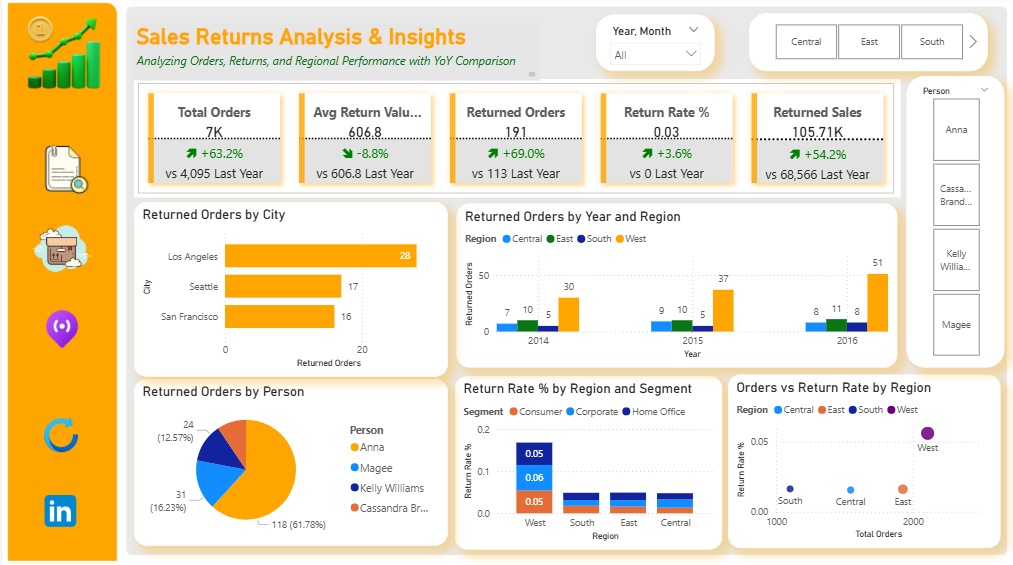

Layout of this report page (visuals, bound fields, positions):
{"tool":"powerbi","page":{"name":"People & Regional Analysis","canvas":[1280,720],"ordinal":2},"visuals":[{"type":"columnChart","fields":{"Category":["Orders_clean.Region"],"Y":["Key_Measures.Return Rate %"],"Series":["Orders_clean.Segment"]},"box":[570,480,336.7,218.3],"z":0},{"type":"clusteredColumnChart","fields":{"Category":["DimDate.Date.Variation.Date Hierarchy.Year"],"Y":["Key_Measures.Returned Orders"],"Series":["Orders_clean.Region"]},"box":[571.7,263.3,555,206.7],"z":1000},{"type":"pieChart","fields":{"Y":["Key_Measures.Returned Orders"],"Category":["People.Person"]},"box":[166.7,483.3,395,210],"z":2000},{"type":"scatterChart","title":"Orders vs Return Rate by Region","fields":{"Y":["Key_Measures.Return Rate %"],"X":["Key_Measures.Total Orders"],"Series":["Orders_clean.Region"],"Size":["Key_Measures.Returned Sales"]},"box":[915,478.3,343.3,218.3],"z":3000},{"type":"barChart","fields":{"Category":["Orders_clean.City"],"Y":["Key_Measures.Returned Orders"]},"box":[166.7,261.7,395,220],"z":4000},{"type":"image","box":[3.7,12.9,149.3,118],"z":5000},{"type":"image","box":[35,175.1,81.1,84.8],"z":6000},{"type":"image","box":[28.3,271.7,91.7,95],"z":7000},{"type":"image","box":[28.3,386.7,95,63.3],"z":8000},{"type":"image","box":[43.3,520,61.7,70],"z":9000},{"type":"image","box":[41.7,618.3,63.3,63.3],"z":10000},{"type":"actionButton","box":[30,175,91.7,85],"z":11000},{"type":"actionButton","box":[25,280,95,80],"z":12000},{"type":"actionButton","box":[28.3,378.3,88.3,91.7],"z":13000},{"type":"actionButton","box":[43.3,520,81.7,75],"z":14000},{"type":"actionButton","box":[41.7,618.3,63.3,63.3],"z":15000},{"type":"cardVisual","fields":{"Data":["Key_Measures.Total Orders","Key_Measures.Avg Return Value YoY","Key_Measures.Returned Orders","Key_Measures.Return Rate %","Key_Measures.Returned Sales"]},"box":[165.9,105.7,966.2,149.6],"z":16000},{"type":"slicer","fields":{"Values":["DimDate.Date.Variation.Date Hierarchy.Year","DimDate.Date.Variation.Date Hierarchy.Month"]},"box":[748.2,24.4,149.6,71.6],"z":17000},{"type":"slicer","fields":{"Values":["People.Region"]},"box":[941.8,22.8,300.9,73.2],"z":18000},{"type":"textbox","title":"Sales Returns Analysis & Insights","box":[164.3,35.8,512.4,71.6],"z":19000},{"type":"slicer","fields":{"Values":["People.Person"]},"box":[1140.2,102.5,123.6,367.6],"z":20000}]}

Visuals, with their boxes on the page's 1280x720 design canvas (x1, y1, x2, y2). These are canvas units, not pixel positions in the 1013x565 screenshot, which may show the page scaled, cropped or inside an application window:
columnChart - Orders_clean.Region x Key_Measures.Return Rate %: left=570, top=480, right=907, bottom=698
clusteredColumnChart - DimDate.Date.Variation.Date Hierarchy.Year x Key_Measures.Returned Orders: left=572, top=263, right=1127, bottom=470
pieChart - Key_Measures.Returned Orders x People.Person: left=167, top=483, right=562, bottom=693
"Orders vs Return Rate by Region" scatterChart: left=915, top=478, right=1258, bottom=697
barChart - Orders_clean.City x Key_Measures.Returned Orders: left=167, top=262, right=562, bottom=482
image: left=4, top=13, right=153, bottom=131
image: left=35, top=175, right=116, bottom=260
image: left=28, top=272, right=120, bottom=367
image: left=28, top=387, right=123, bottom=450
image: left=43, top=520, right=105, bottom=590
image: left=42, top=618, right=105, bottom=682
actionButton: left=30, top=175, right=122, bottom=260
actionButton: left=25, top=280, right=120, bottom=360
actionButton: left=28, top=378, right=117, bottom=470
actionButton: left=43, top=520, right=125, bottom=595
actionButton: left=42, top=618, right=105, bottom=682
cardVisual - Key_Measures.Total Orders x Key_Measures.Avg Return Value YoY: left=166, top=106, right=1132, bottom=255
slicer - DimDate.Date.Variation.Date Hierarchy.Year x DimDate.Date.Variation.Date Hierarchy.Month: left=748, top=24, right=898, bottom=96
slicer - People.Region: left=942, top=23, right=1243, bottom=96
"Sales Returns Analysis & Insights" textbox: left=164, top=36, right=677, bottom=107
slicer - People.Person: left=1140, top=102, right=1264, bottom=470
